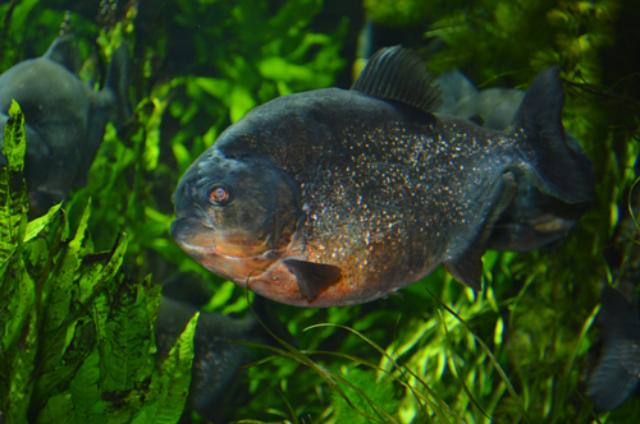Mulut: (142, 167, 222, 267)
Sirip Anal: (436, 169, 522, 308)
Sirip Dada: (268, 243, 352, 316)
Sirip Ekor: (499, 58, 608, 220)
Sirip Punggung: (335, 33, 489, 138)
